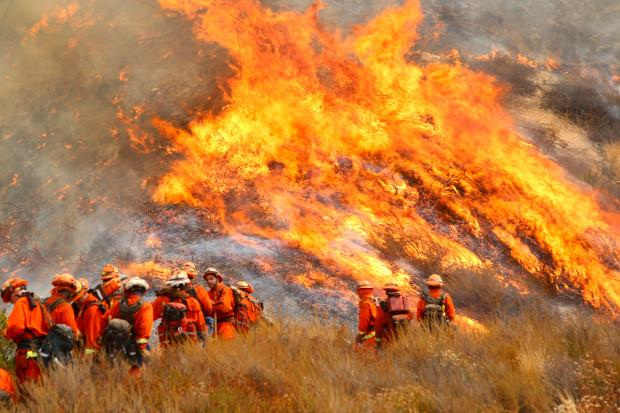Fire: (138, 3, 620, 333)
